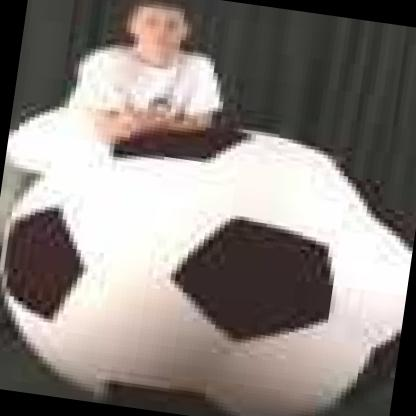ball: (0, 98, 416, 416)
